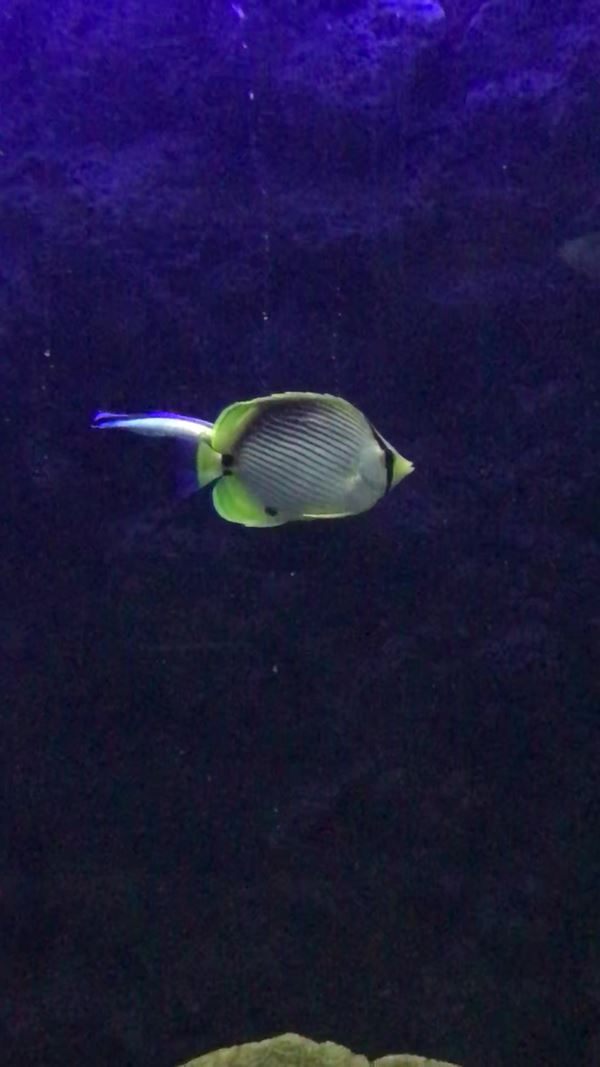Black-backed butterflyfish: (161, 376, 437, 538)
